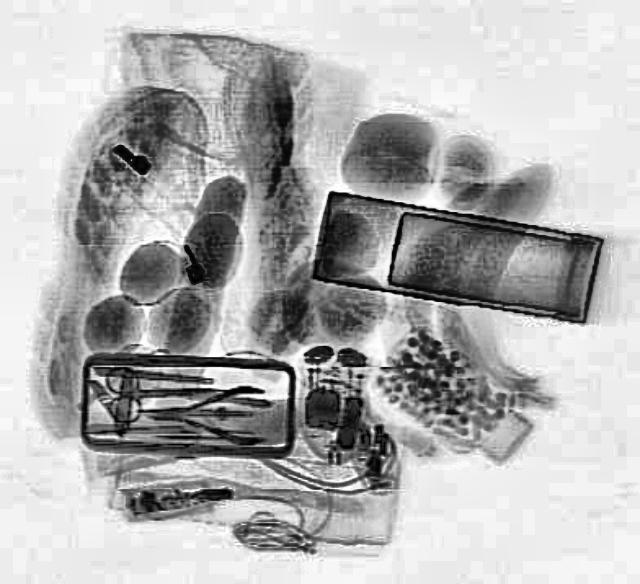Pliers: (138, 382, 266, 444)
Scissors: (102, 365, 212, 419)
